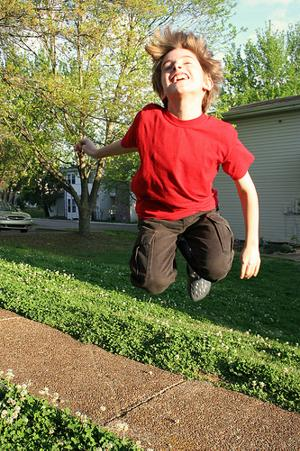person: (76, 32, 263, 306)
